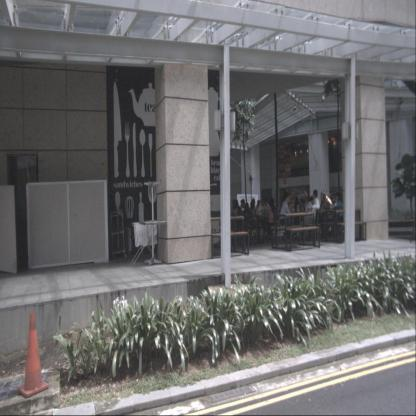human-pedestrian-adult: (278, 193, 295, 242), (307, 190, 320, 242), (262, 198, 276, 240), (334, 193, 344, 237), (320, 194, 330, 237), (240, 199, 249, 245), (305, 196, 314, 240), (234, 200, 241, 244), (262, 198, 270, 236), (250, 198, 256, 244), (255, 199, 262, 238), (245, 202, 249, 241)
movable_object-trafficcone: (18, 312, 49, 398)
